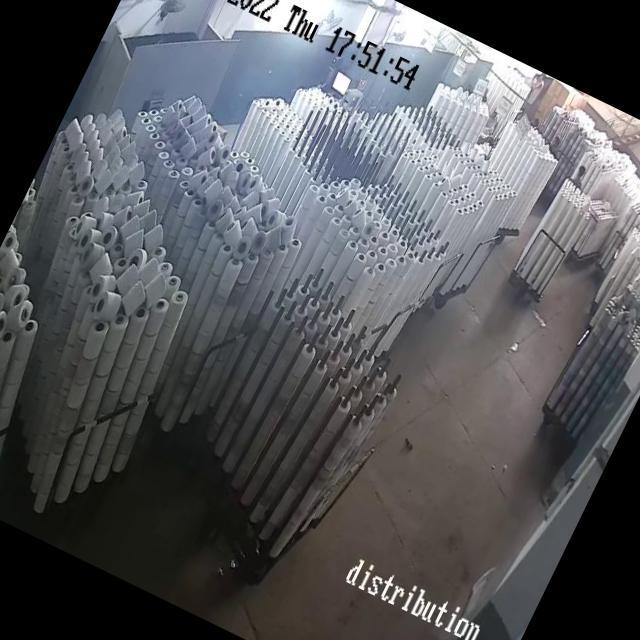person: (514, 71, 550, 127), (566, 157, 594, 190), (544, 128, 568, 160)
